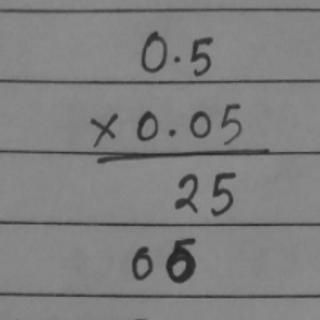.: (166, 127, 179, 142), (172, 51, 184, 64)
0: (141, 32, 168, 75), (131, 246, 154, 279), (189, 112, 213, 141), (138, 111, 159, 139)
2: (174, 175, 200, 215)
5: (218, 100, 246, 148), (210, 169, 240, 212), (188, 35, 216, 77)
